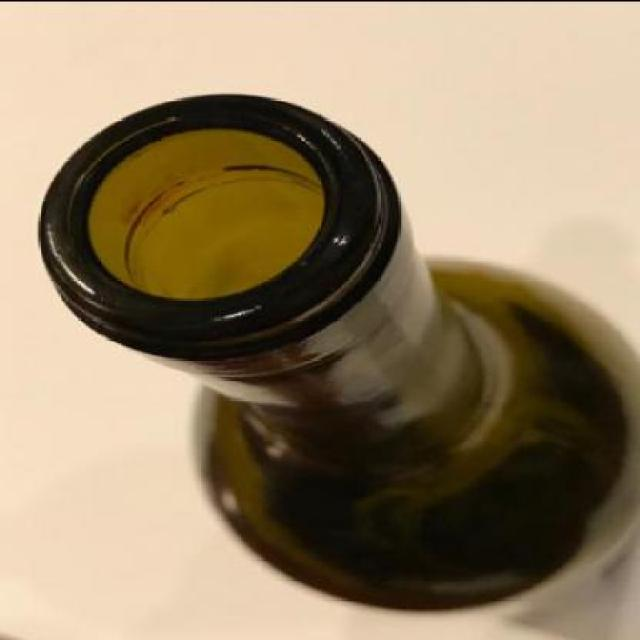glass: (37, 91, 638, 609)
